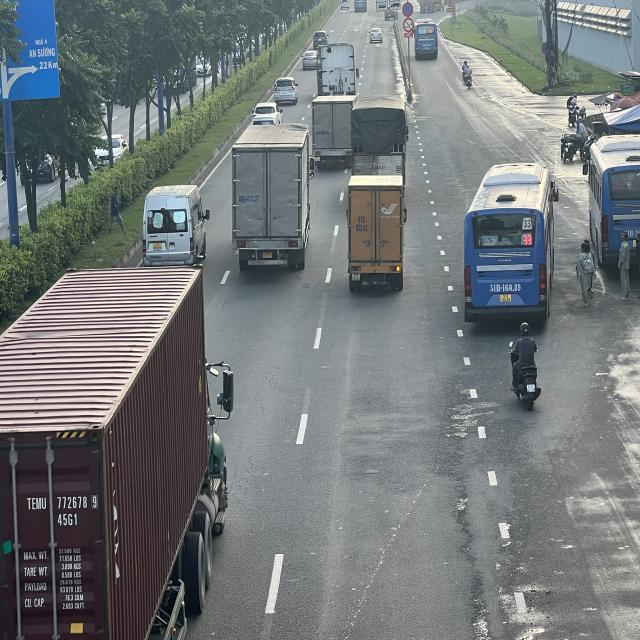coach: (465, 160, 555, 325), (583, 138, 637, 294), (414, 17, 439, 60)
container: (0, 269, 232, 640), (318, 43, 356, 98)
truck: (232, 129, 312, 274), (346, 177, 406, 292), (350, 98, 408, 180), (313, 97, 354, 170)
van: (144, 183, 213, 278)
